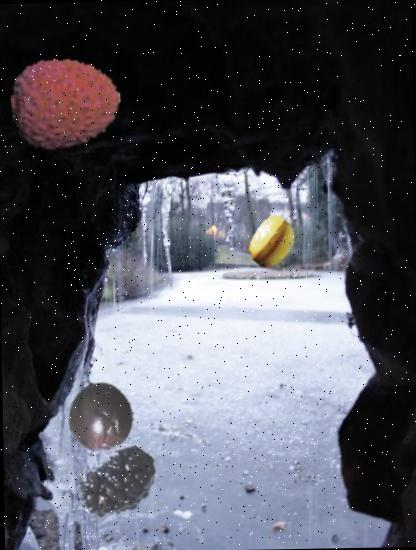Carambula: (245, 214, 300, 268)
Lychee: (10, 47, 122, 160)
Mulberry: (76, 441, 160, 525)
Passion: (65, 382, 136, 452)
